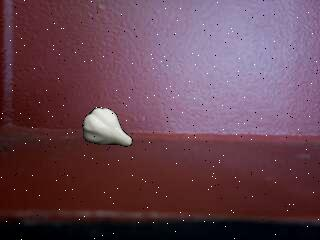Garlic: (81, 107, 134, 150)
